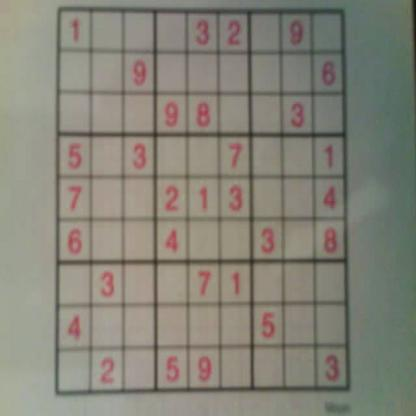sudoku: (52, 3, 354, 402)
